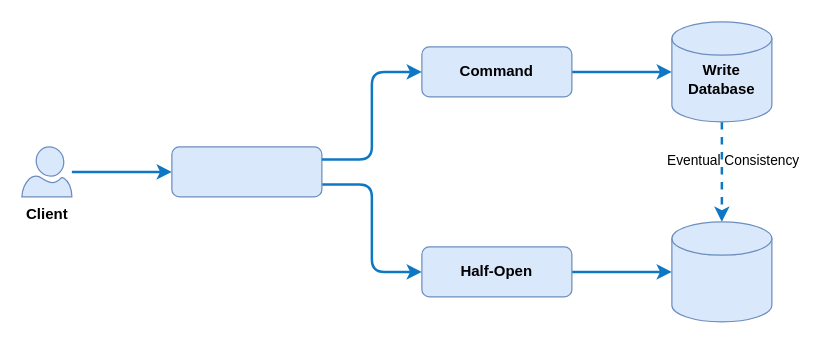
This 820x344 diagram has some shape labels left out. Each missing label, with the centre of its shape:
"Read Database" belongs at point 721,271.
"UI" belongs at point 246,171.
